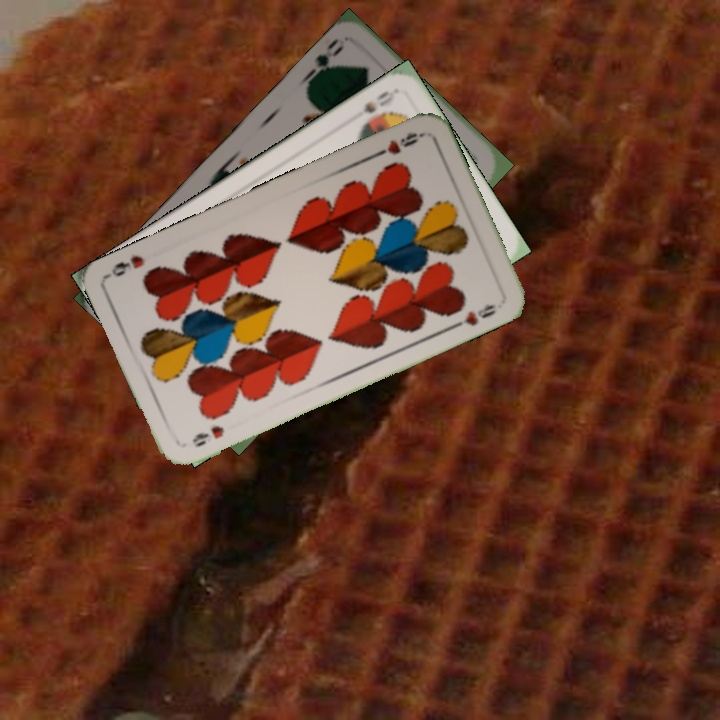GO: (299, 34, 348, 88)
H9: (369, 128, 426, 161), (188, 421, 227, 450)
SO: (360, 86, 399, 116)
